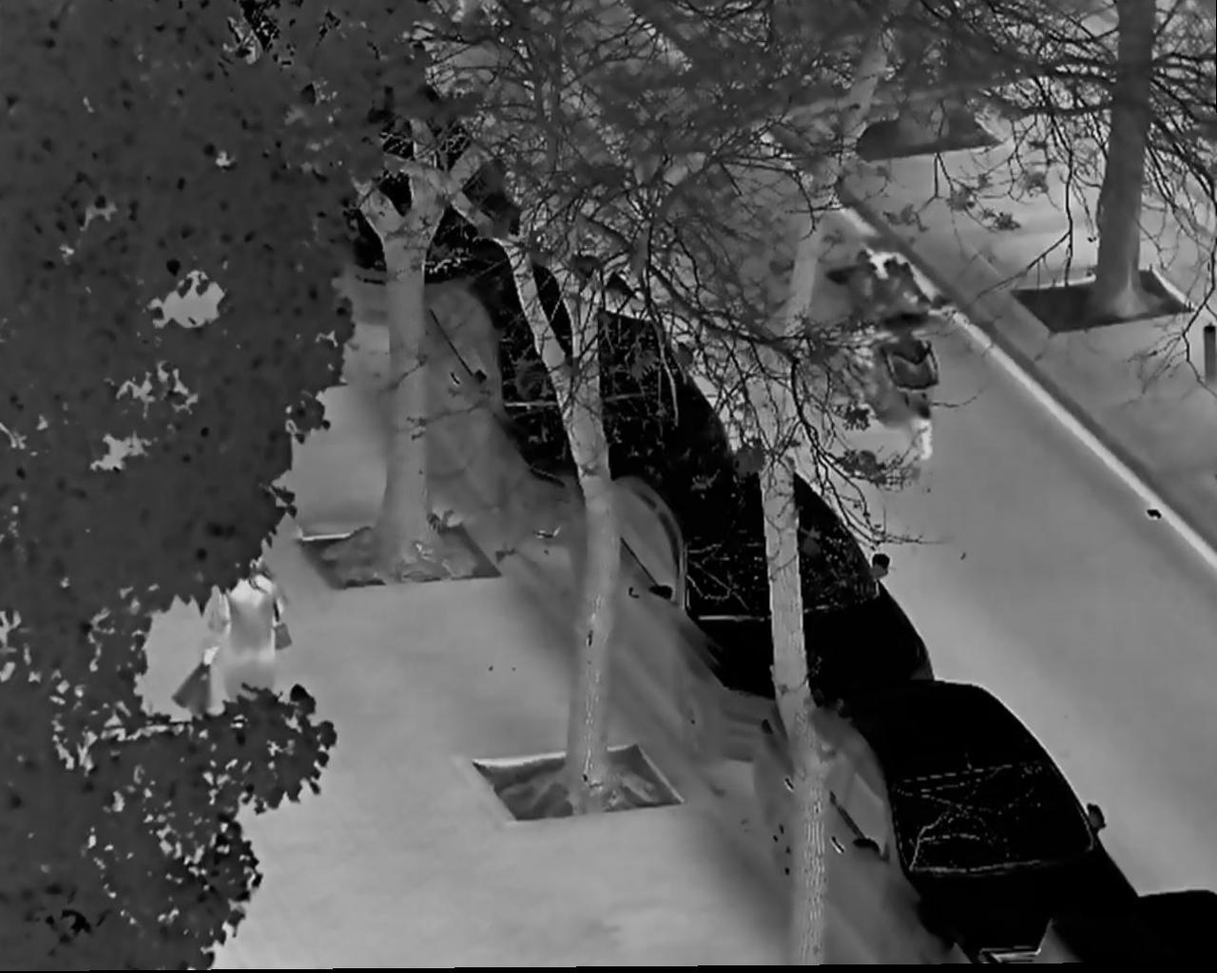person: (197, 542, 292, 782), (846, 242, 940, 400)
